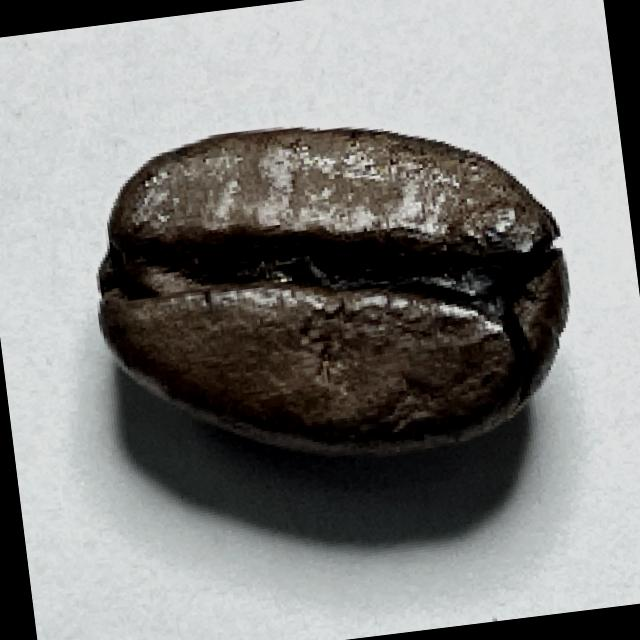bean: (77, 93, 592, 491)
